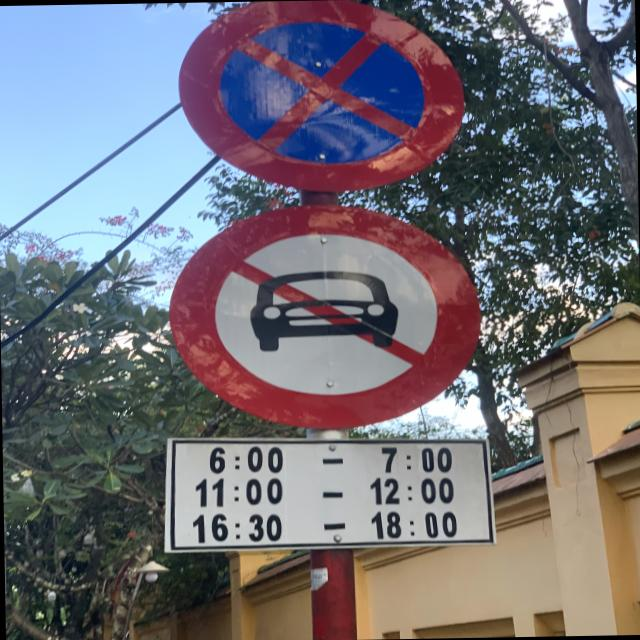Cam_Dung_Va_Dau_Xe: (176, 0, 471, 198)
Cam_O_To: (164, 198, 482, 432)
